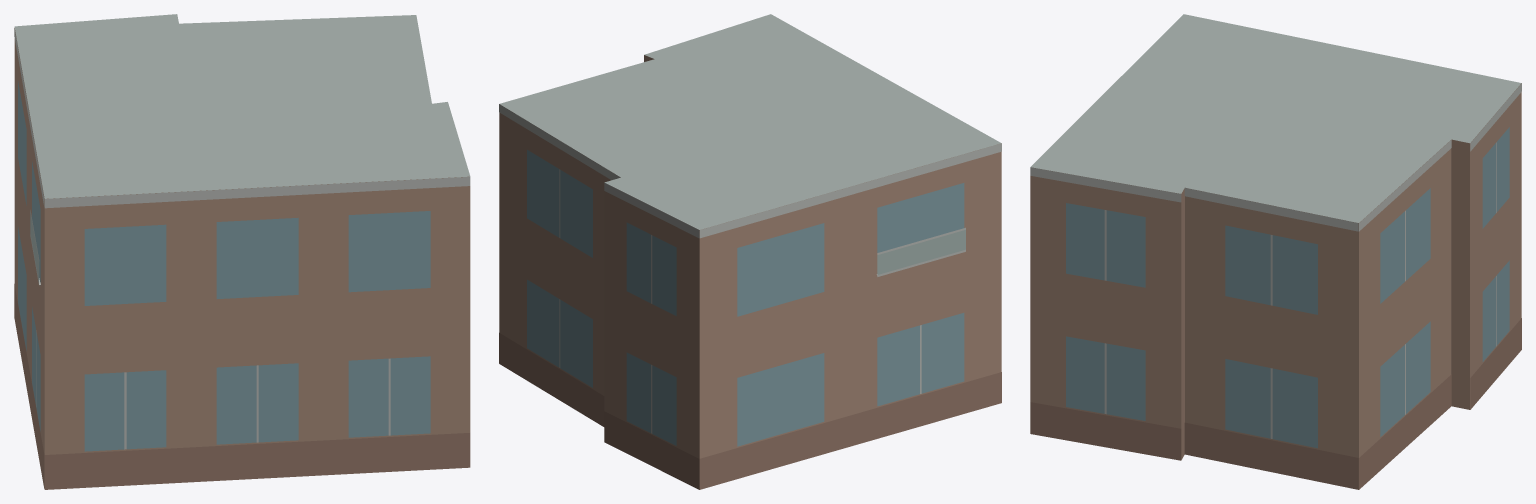
Rendered from survey-upis-32663040.glb.
The picture shows the model from 3 angles, left to right: view 1: azimuth 30°, elevation 25°; view 2: azimuth 150°, elevation 25°; view 3: azimuth 270°, elevation 25°; orthographic projection. The views are drawn at different scales.
Visible parts, largest first — view 1: survey-upis-32663040.tmp; view 2: survey-upis-32663040.tmp; view 3: survey-upis-32663040.tmp.
Boxes of the visible parts, bbox=[...] form: survey-upis-32663040.tmp: bbox=[14, 14, 470, 489]; survey-upis-32663040.tmp: bbox=[499, 14, 1001, 489]; survey-upis-32663040.tmp: bbox=[1030, 14, 1521, 489].
Size of the model in its own units: 12.7 by 7.55 by 12.61.
